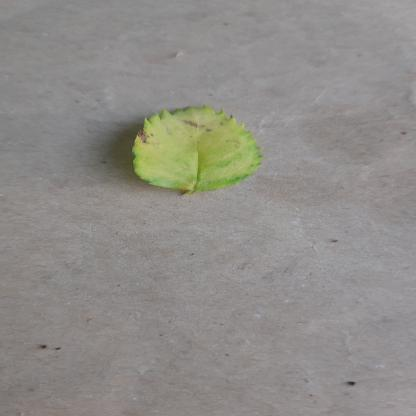black-spot: (110, 99, 280, 201)
